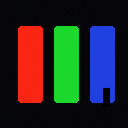4 line_v: (103, 88, 109, 106)
